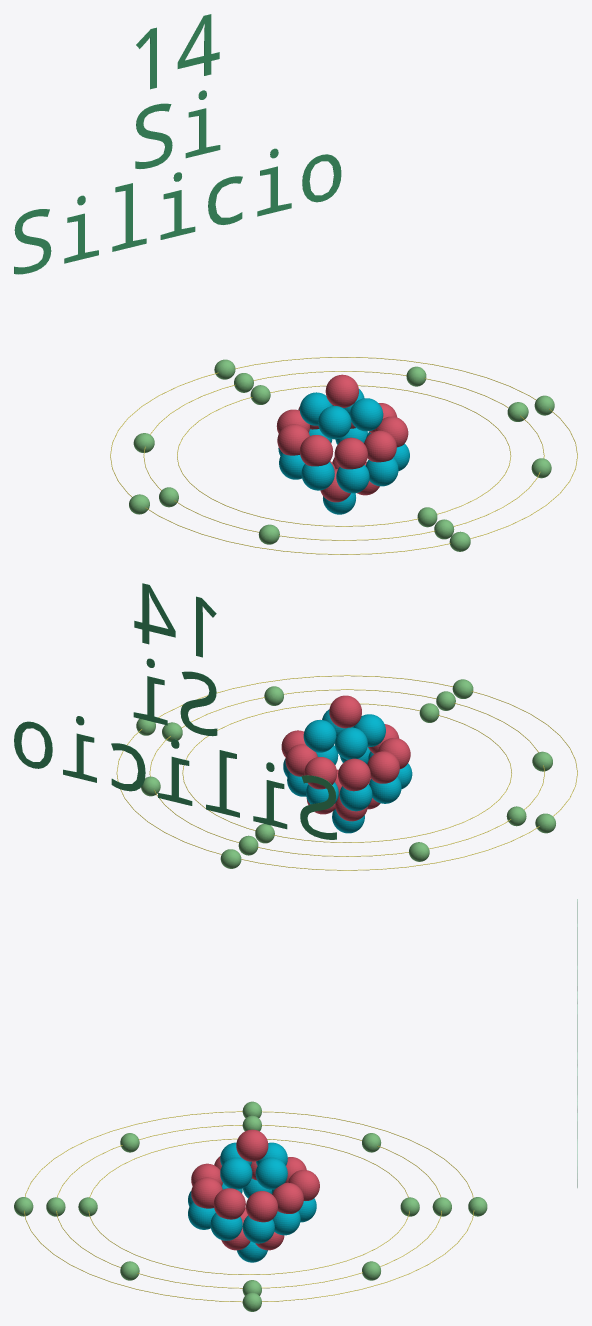
Rendered from 14-SILICIO-ANDROID.glb.
3 views of the same model, one above another, from view 1: azimuth 30°, elevation 25°; view 2: azimuth 150°, elevation 25°; view 3: azimuth 270°, elevation 25° (orthographic). The views are drawn at different scales.
Visible parts, largest first — view 1: Mesh_Mesh_head_geo.001_lambert2SG.001; view 2: Mesh_Mesh_head_geo.001_lambert2SG.001; view 3: Mesh_Mesh_head_geo.001_lambert2SG.001.
Part boxes in pixels (left/top/right/bottom): Mesh_Mesh_head_geo.001_lambert2SG.001: left=14, top=14, right=577, bottom=554; Mesh_Mesh_head_geo.001_lambert2SG.001: left=14, top=583, right=577, bottom=870; Mesh_Mesh_head_geo.001_lambert2SG.001: left=14, top=899, right=577, bottom=1311.
Size of the model in its own units: 146 by 121 by 175.
